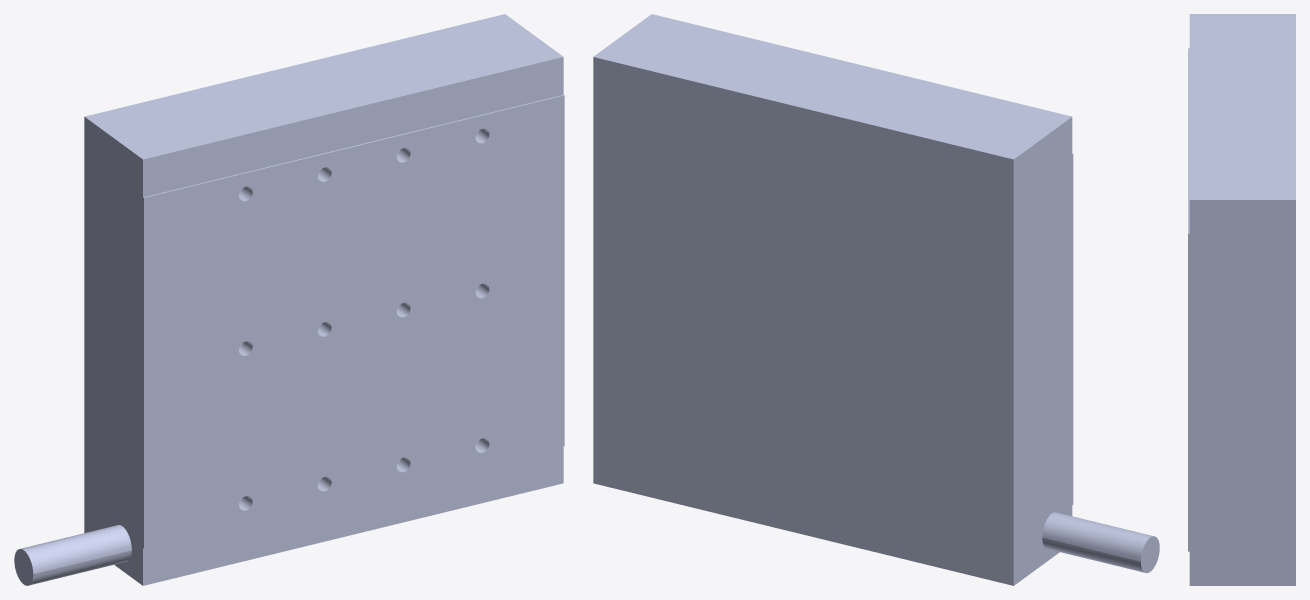
The model's file is MTC-6.glb.
3 renders of one model, left to right at view 1: azimuth 30°, elevation 25°; view 2: azimuth 150°, elevation 25°; view 3: azimuth 270°, elevation 25°, orthographic. The views are drawn at different scales.
Parts seen in each view (by area): view 1: MTC-6_node_1; view 2: MTC-6_node_1; view 3: MTC-6_node_1.
Boxes of the visible parts, x1,y1,x2,y2 form: MTC-6_node_1: (14, 14, 564, 585); MTC-6_node_1: (593, 14, 1159, 585); MTC-6_node_1: (1188, 14, 1295, 585).
Bounding box in the file's own units: 158 × 124 × 31.4.
